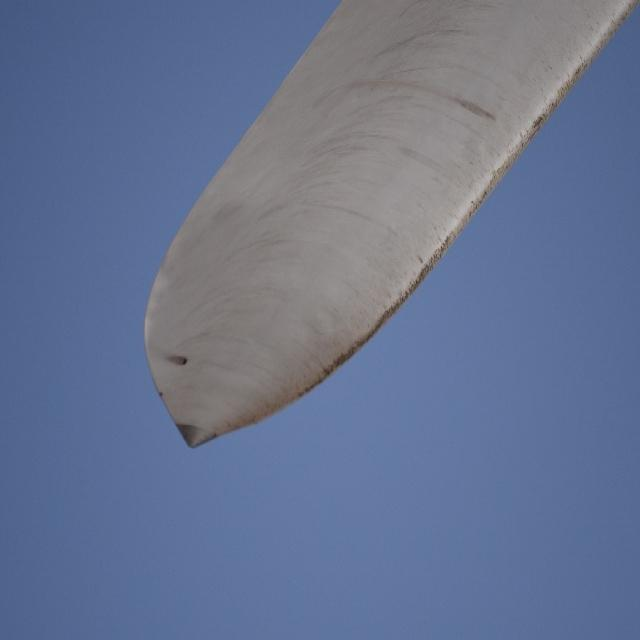Burn Mark: (166, 349, 189, 368)
EROSION: (281, 201, 482, 421), (465, 13, 635, 205)
